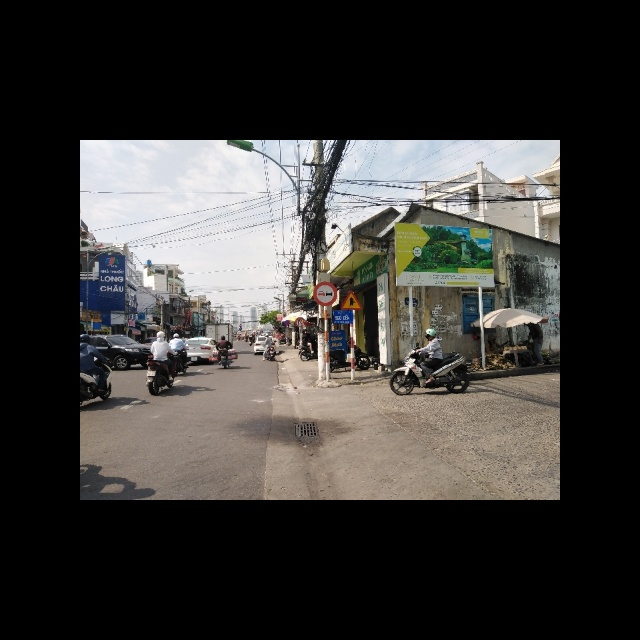Cấm vượt: (314, 282, 338, 306)
Giao nhau với đường không ưu tiên: (341, 289, 364, 311)
